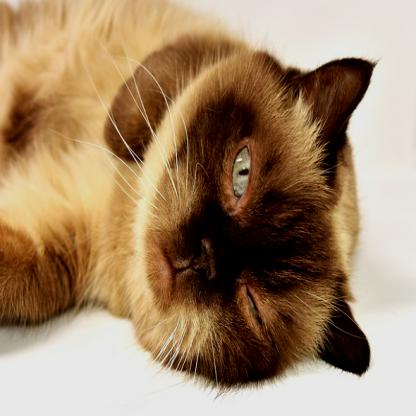cat: (0, 0, 375, 387)
